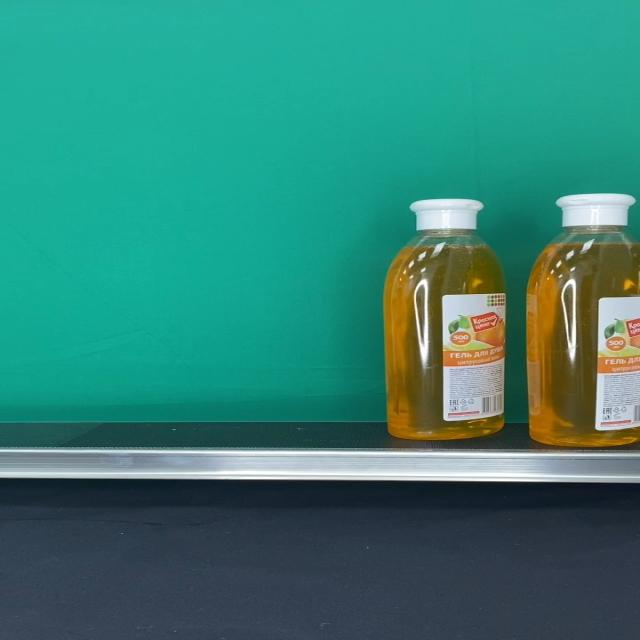Bottle: (524, 194, 640, 445), (386, 200, 506, 440)
Cap: (556, 194, 634, 227), (409, 200, 483, 230)
